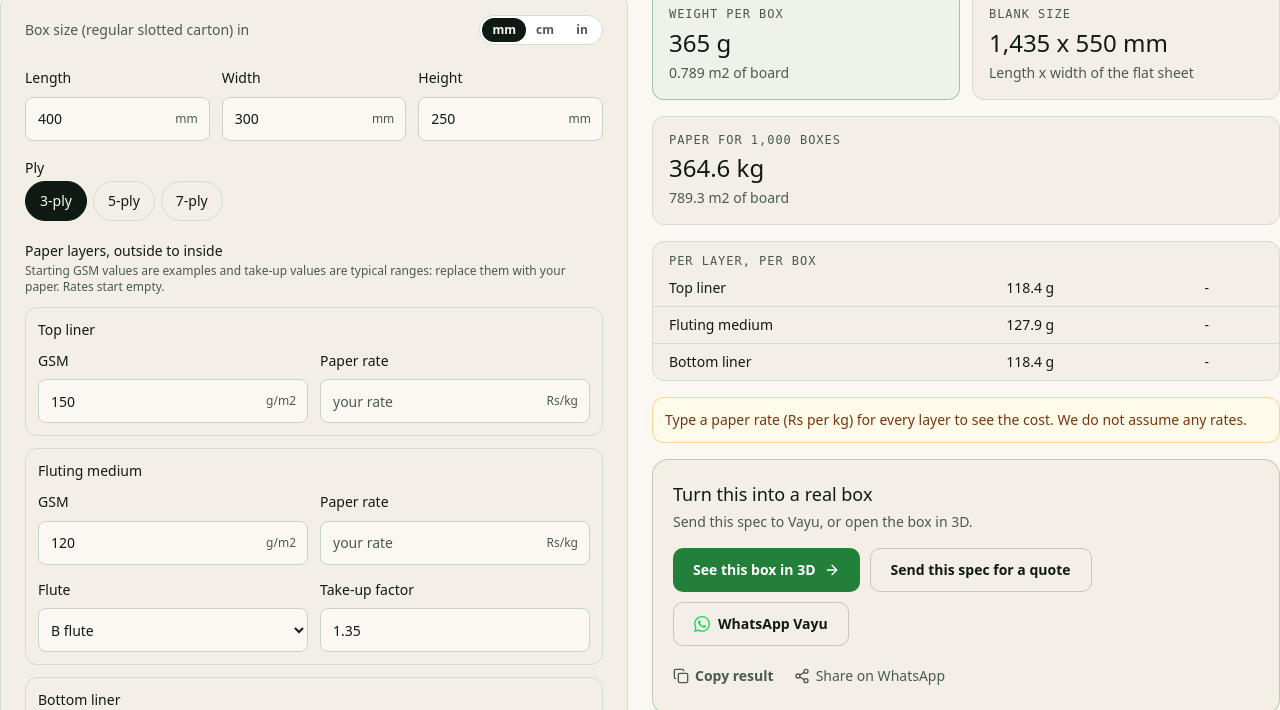
it: calculators › box weight: no cost without rates, cost once every layer has one
Expected: the text "Type a paper rate" is shown, [665,410,1247,429]
Type "40" into the 1st field with placeholder "your rate".
click(455, 401); type("40")  # box [320,379,590,423]
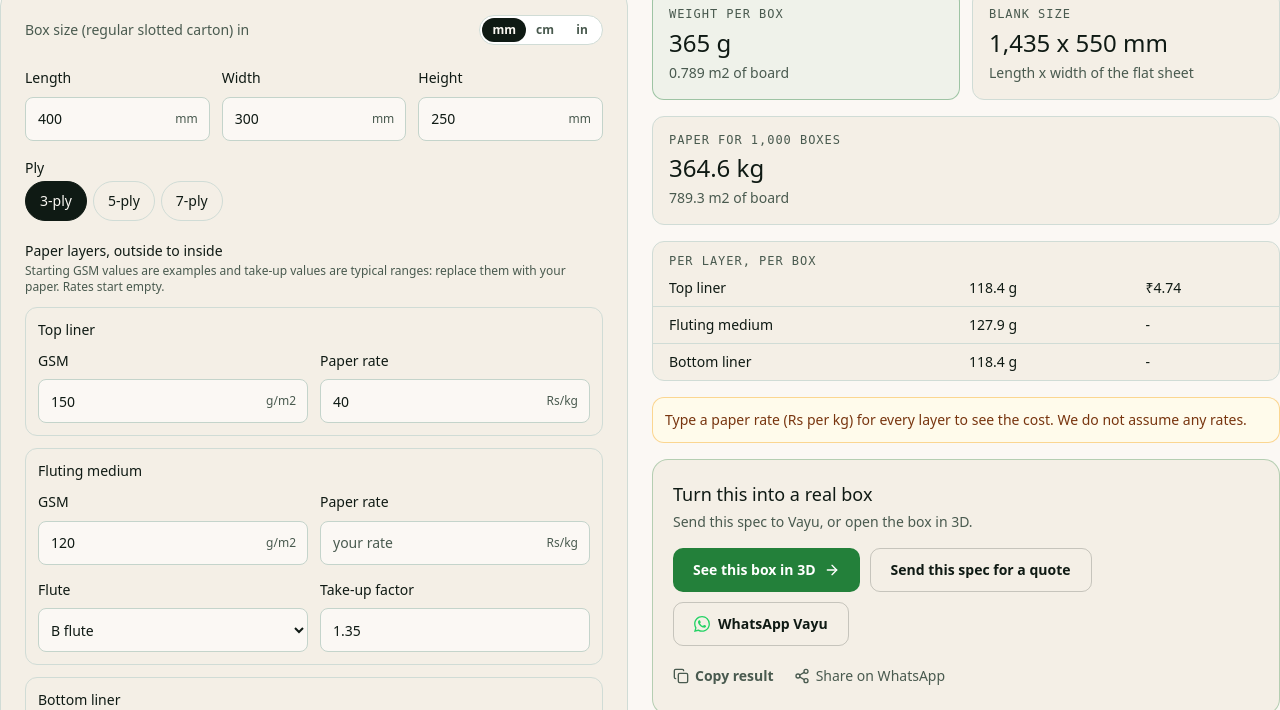
Type "40" into the 2nd field with placeholder "your rate".
click(455, 543); type("40")  # box [320,521,590,565]
(page scrolled)
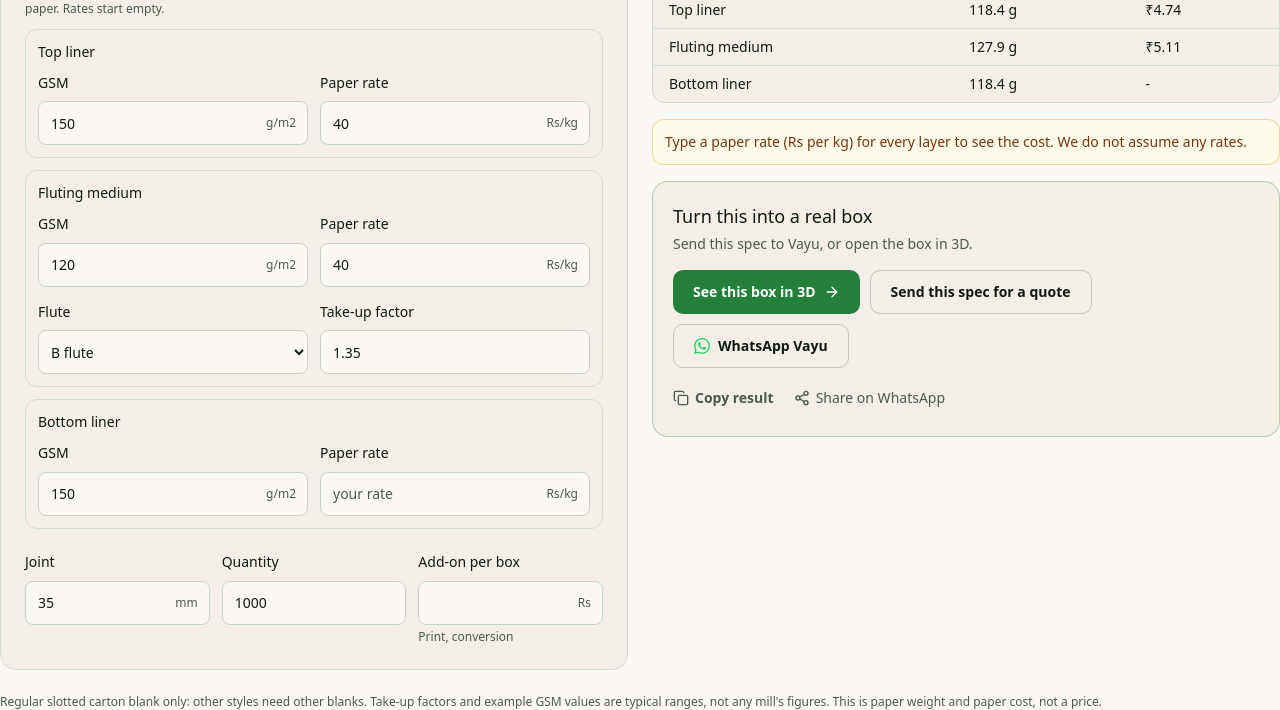
Type "40" into the 3rd field with placeholder "your rate".
click(455, 494); type("40")  # box [320,472,590,516]
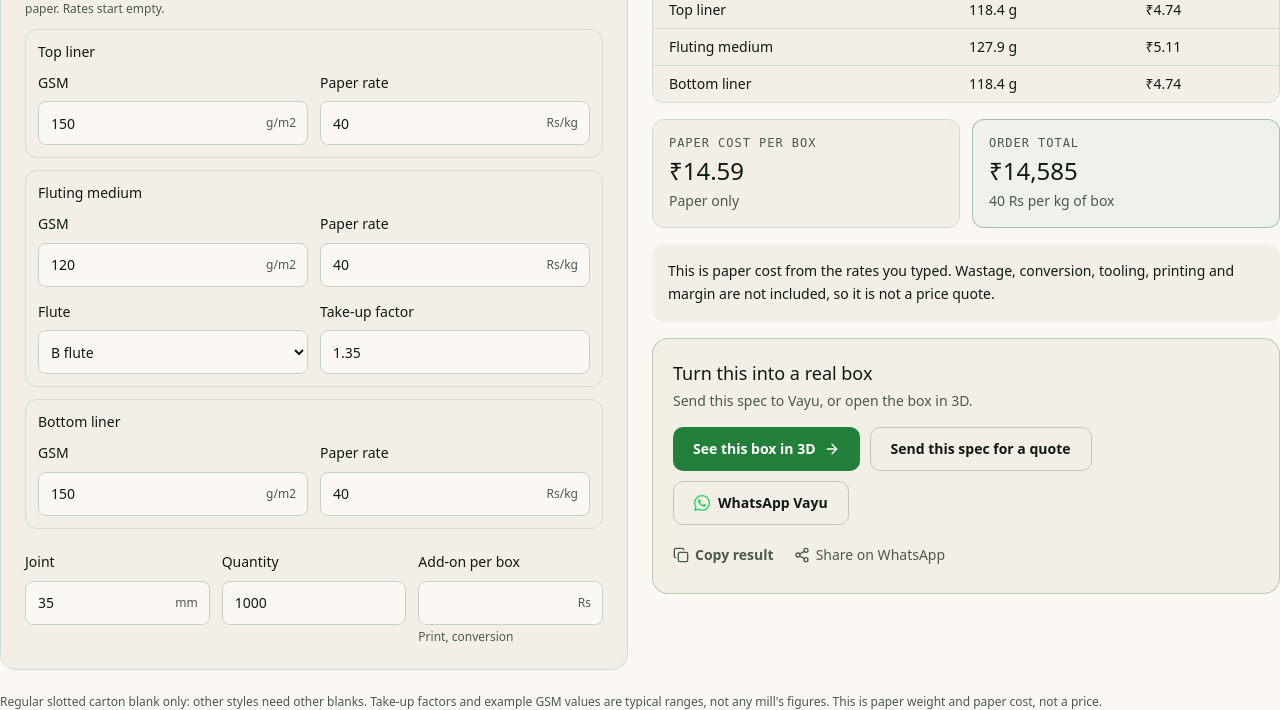
Expected: the text "Type a paper rate" is gone
Expected: the text "Paper cost per box" is shown, [669,136,816,150]
